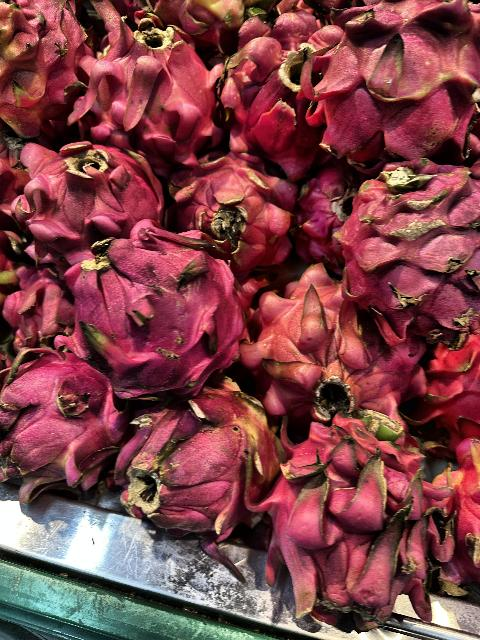buah-naga-belum-matang: (132, 396, 283, 542)
buah-naga-matang: (272, 408, 452, 628), (334, 141, 480, 337), (310, 0, 480, 160), (66, 232, 246, 381), (253, 270, 424, 418), (79, 5, 219, 172), (5, 130, 170, 252), (0, 346, 128, 502), (222, 0, 324, 164)
